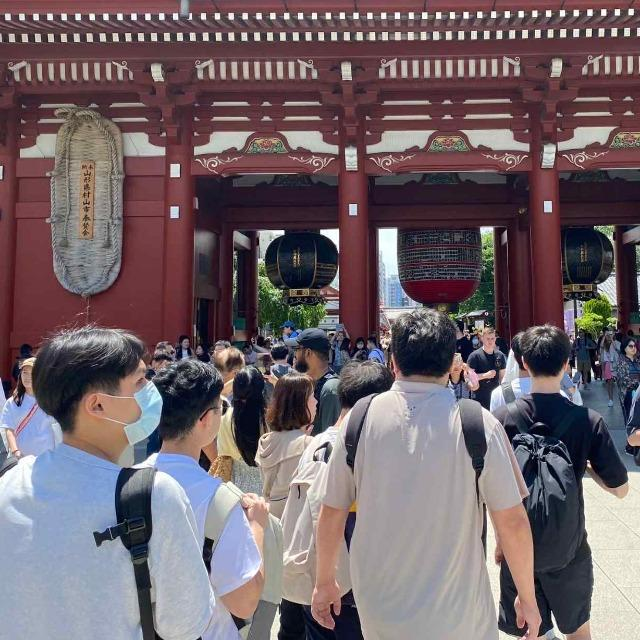NoHelmet: (32, 321, 163, 454), (387, 305, 463, 387)
